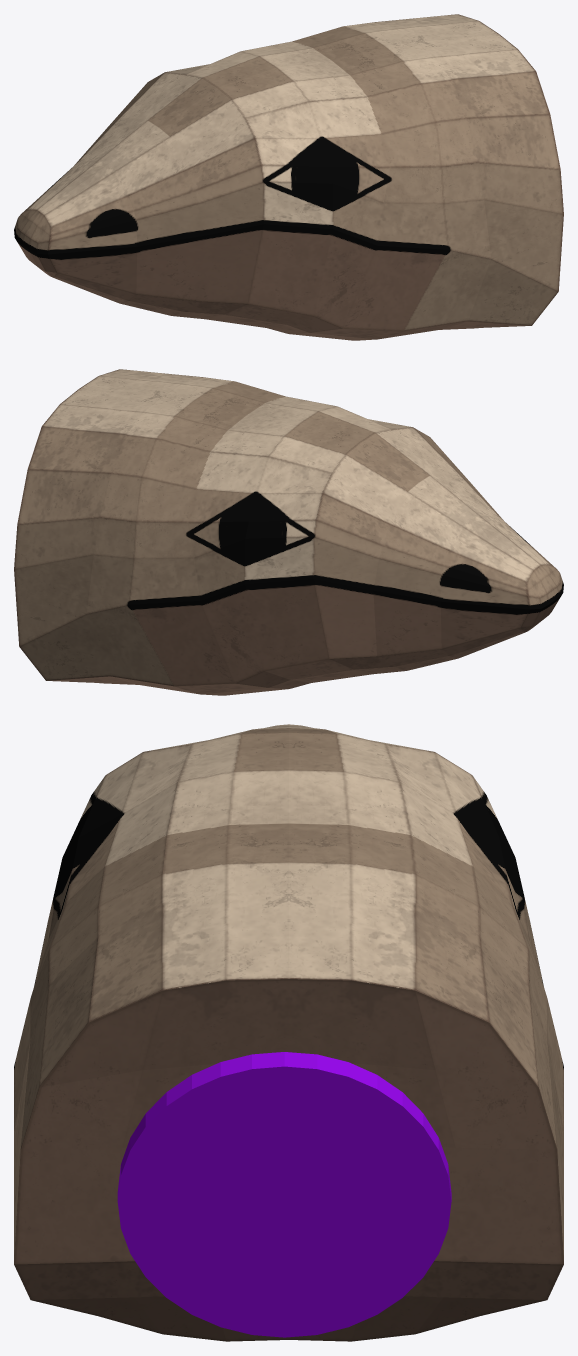
The model's file is parte_cabeza_lagarto.fbx.
3 renders of one model, top to bottom at view 1: azimuth 30°, elevation 25°; view 2: azimuth 150°, elevation 25°; view 3: azimuth 270°, elevation 25°, orthographic. The views are drawn at different scales.
Visible parts, largest first — view 1: Cube.004; view 2: Cube.004; view 3: Cube.004, Cylinder.009.
Boxes of the visible parts, box(x1,y1,x2,y2) form: Cube.004: box(14, 14, 563, 340); Cube.004: box(14, 369, 563, 695); Cube.004: box(14, 724, 563, 1341); Cylinder.009: box(117, 1052, 451, 1337).
Size of the model in its own units: 407 by 223 by 249.
